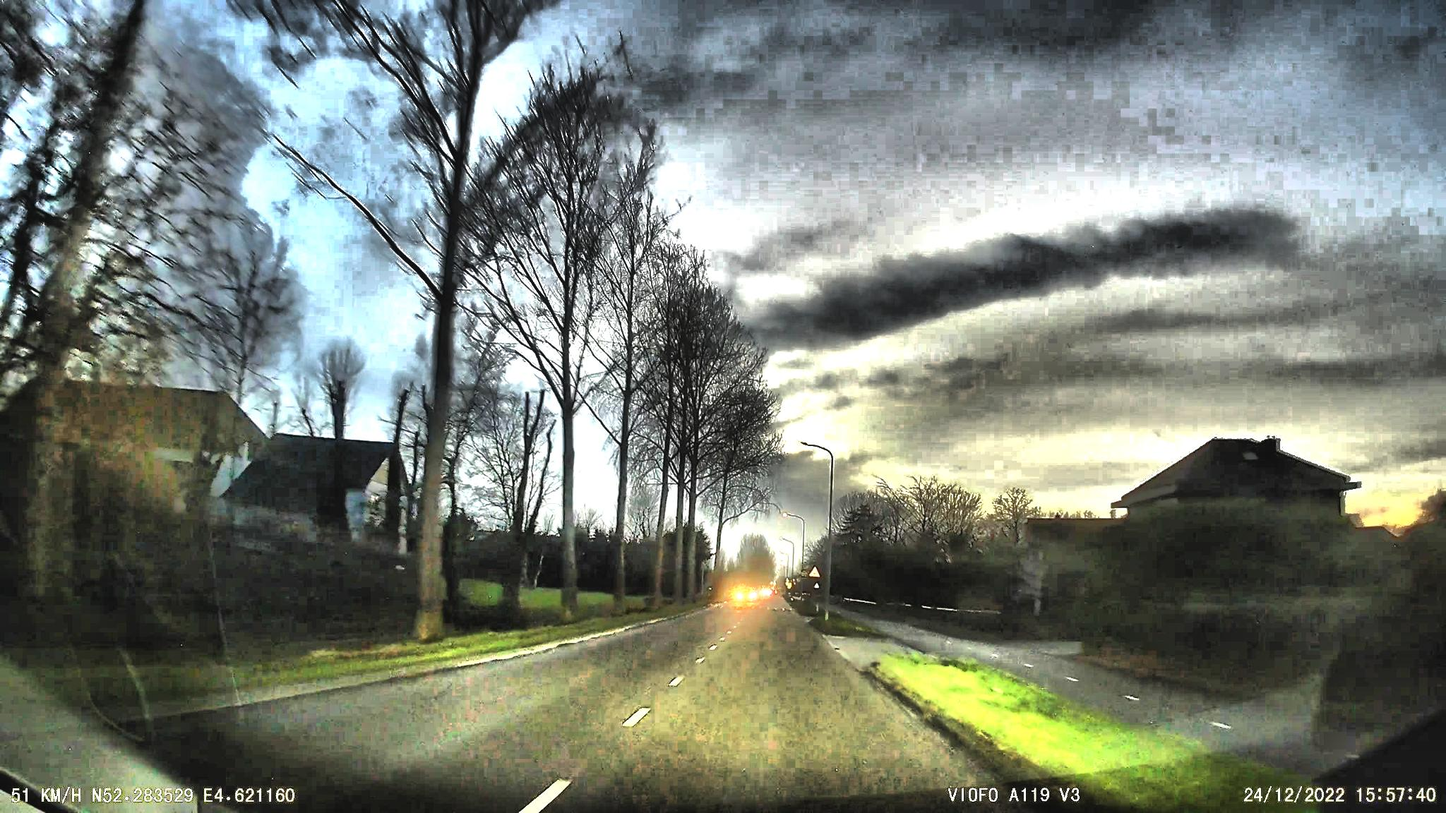Roads: (88, 604, 1011, 813)
